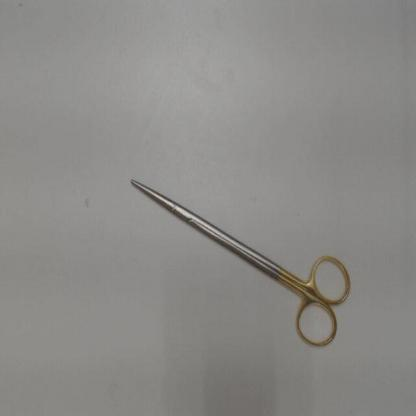7 Metzenbaum Scissors: (124, 173, 355, 354)
